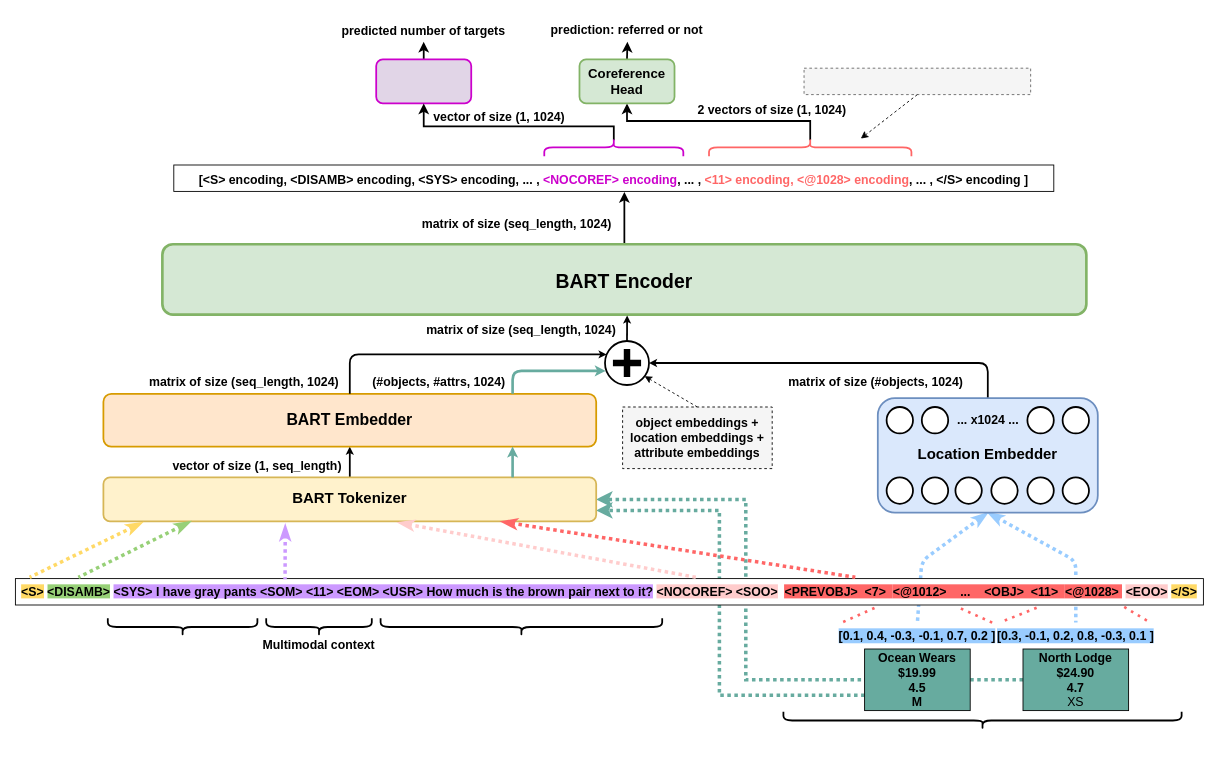
Image size: 1219x769. Some labels were removed from this diagram. Each missing label, with the box of its shape:
Auxiliary Head: (375, 58, 472, 104)
repeat for every object embedding: (803, 67, 1031, 95)
Scene context: object IDs + encoded locations + non-visual attributes: (782, 710, 1182, 730)
System utterance: (106, 617, 258, 636)
User utterance: (379, 617, 663, 636)
